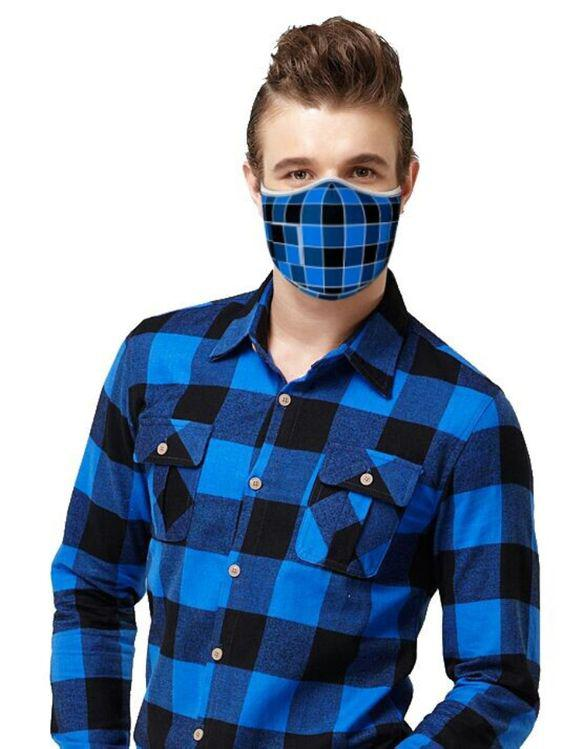OK: (264, 154, 410, 300)
